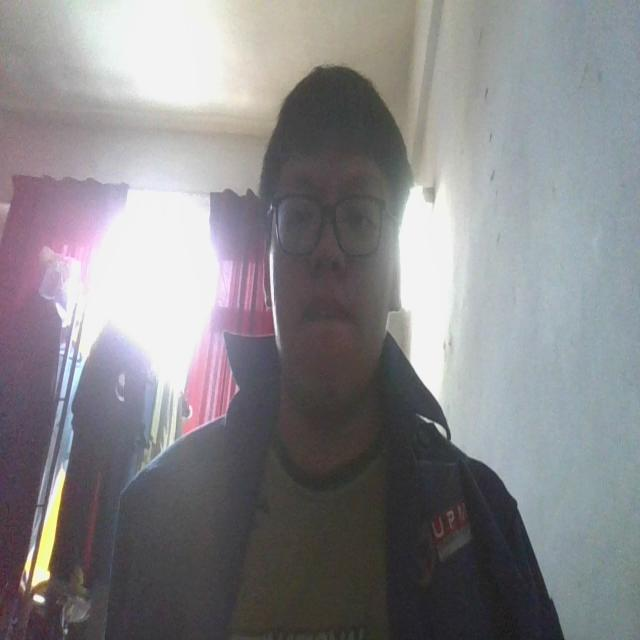person_without_labcoat: (107, 66, 562, 639)
